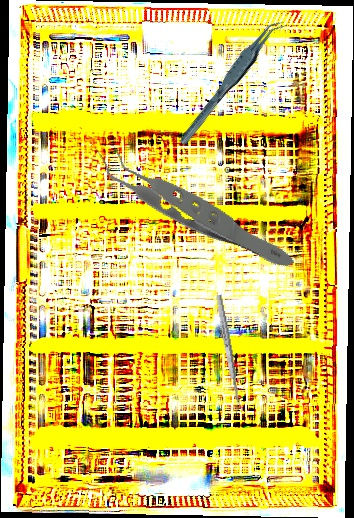Surgical Spoon: (214, 294, 244, 413)
Tissue Forceps: (90, 87, 298, 322), (165, 15, 297, 147)
